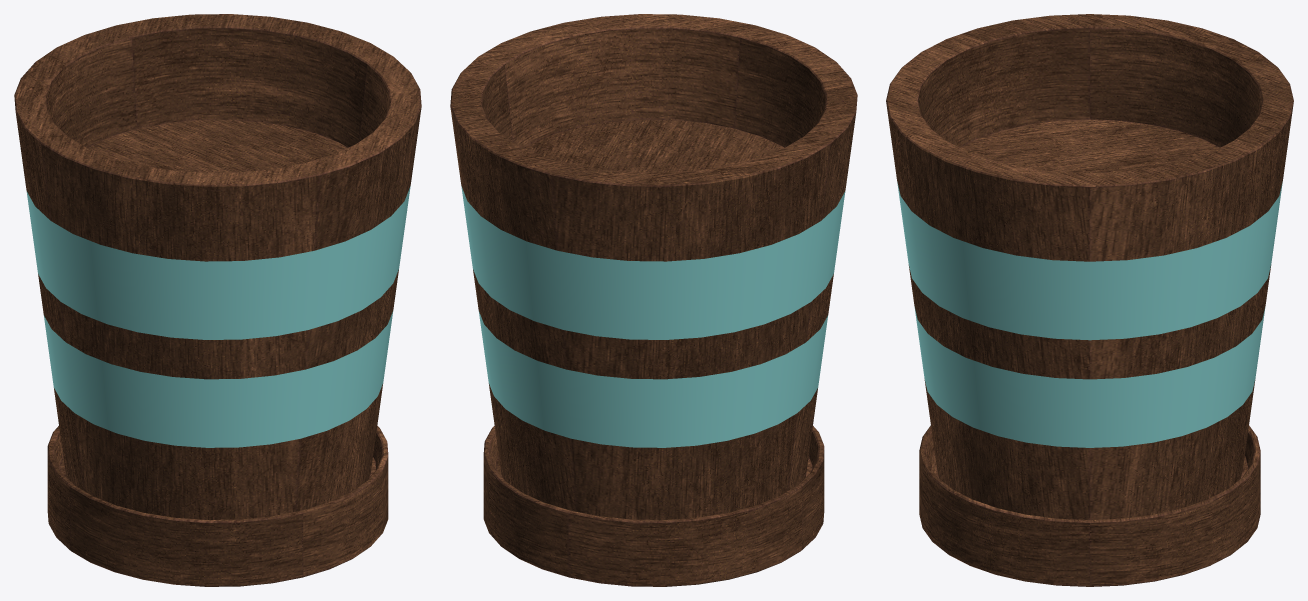
File: donica_paski_niebieska.fbx
The picture shows the model from 3 angles, left to right: view 1: azimuth 30°, elevation 25°; view 2: azimuth 150°, elevation 25°; view 3: azimuth 270°, elevation 25°; orthographic projection.
Parts seen in each view (by area): view 1: donica.005; view 2: donica.005; view 3: donica.005.
Part boxes in pixels (bbox=[...]): donica.005: bbox=[14, 14, 421, 586]; donica.005: bbox=[450, 14, 857, 586]; donica.005: bbox=[886, 14, 1293, 586].
Size of the model in its own units: 141 by 162 by 141.
Materials: 2 (1 with a texture image).
